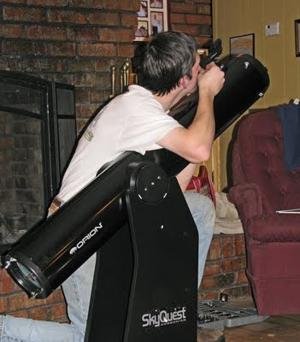person: (1, 30, 226, 342)
